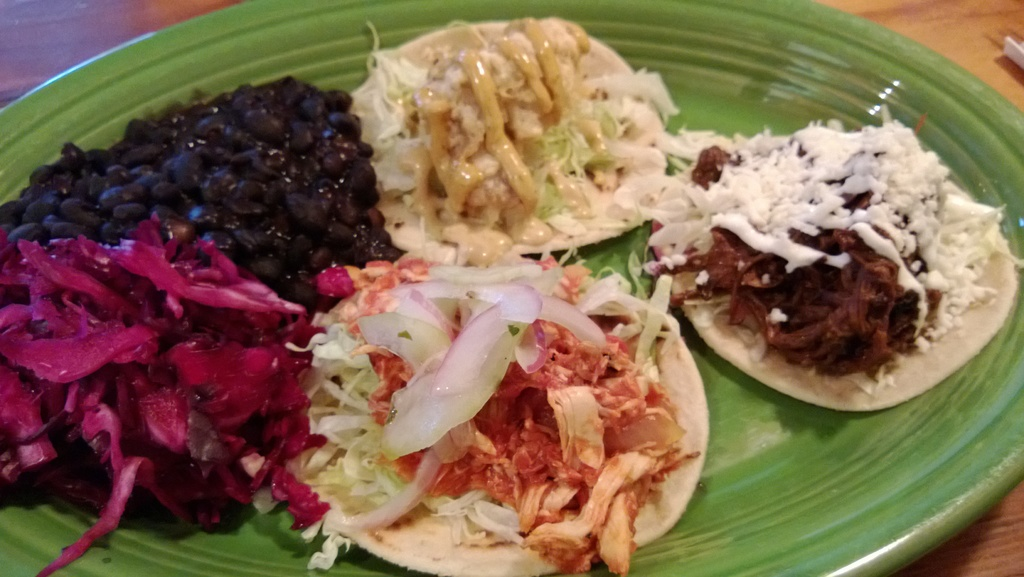taco: (264, 246, 746, 567), (658, 113, 1018, 409), (346, 18, 669, 278)
